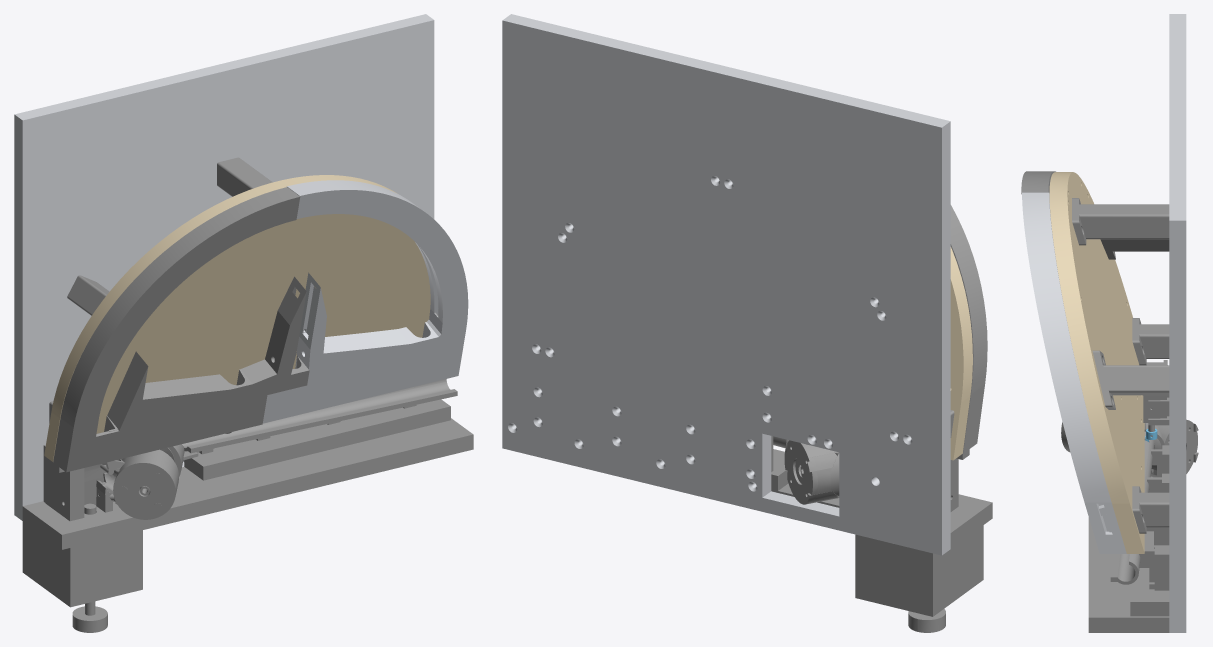
Rendered from pinball_COMPLETO.glb.
3 views of the same model, side by side, from view 1: azimuth 30°, elevation 25°; view 2: azimuth 150°, elevation 25°; view 3: azimuth 270°, elevation 25° (orthographic). The views are drawn at different scales.
Visible parts, largest first — view 1: corpo_20, pinball_COMPLETO, Tampo_madeira, corpo_31, madeira, Extensao_lancador_madeira, novo_elevador, Coluna_T2, Coluna_T3, Lancador_puxador; view 2: corpo_20, Extensao_lancador_madeira, pinball_COMPLETO, Tampo_madeira, copo_transporte, madeira, Lancador_puxador; view 3: Tampo_madeira, corpo_20, corpo_31, pinball_COMPLETO, madeira, Coluna_T2, Coluna_T1, Coluna_F_dir, Coluna_F_esq, copo_transporte, Coluna_T3, Berco_solenoide (+1 smaller).
Part boxes in pixels (left/top/right/bottom): corpo_20: left=14, top=14, right=434, bottom=520; pinball_COMPLETO: left=43, top=187, right=457, bottom=521; Tampo_madeira: left=44, top=175, right=430, bottom=461; corpo_31: left=262, top=180, right=468, bottom=423; madeira: left=22, top=418, right=473, bottom=549; Extensao_lancador_madeira: left=22, top=521, right=142, bottom=607; novo_elevador: left=96, top=449, right=178, bottom=519; Coluna_T2: left=217, top=157, right=272, bottom=196; Coluna_T3: left=67, top=275, right=109, bottom=315; Lancador_puxador: left=72, top=606, right=107, bottom=632; corpo_20: left=502, top=14, right=950, bottom=555; Extensao_lancador_madeira: left=855, top=525, right=983, bottom=616; pinball_COMPLETO: left=771, top=205, right=987, bottom=511; Tampo_madeira: left=950, top=247, right=972, bottom=460; copo_transporte: left=784, top=439, right=839, bottom=504; madeira: left=771, top=449, right=992, bottom=548; Lancador_puxador: left=908, top=609, right=945, bottom=632; Tampo_madeira: left=1049, top=172, right=1144, bottom=553; corpo_20: left=1169, top=14, right=1186, bottom=632; corpo_31: left=1022, top=192, right=1126, bottom=553; pinball_COMPLETO: left=1021, top=171, right=1169, bottom=616; madeira: left=1088, top=477, right=1169, bottom=632; Coluna_T2: left=1072, top=198, right=1169, bottom=245; Coluna_T1: left=1092, top=350, right=1169, bottom=409; Coluna_F_dir: left=1132, top=486, right=1169, bottom=533; Coluna_F_esq: left=1132, top=318, right=1169, bottom=365; copo_transporte: left=1144, top=419, right=1198, bottom=477; Coluna_T3: left=1100, top=239, right=1169, bottom=259; Berco_solenoide: left=1148, top=395, right=1169, bottom=425.
Size of the model in its own units: 430 by 498 by 156.
